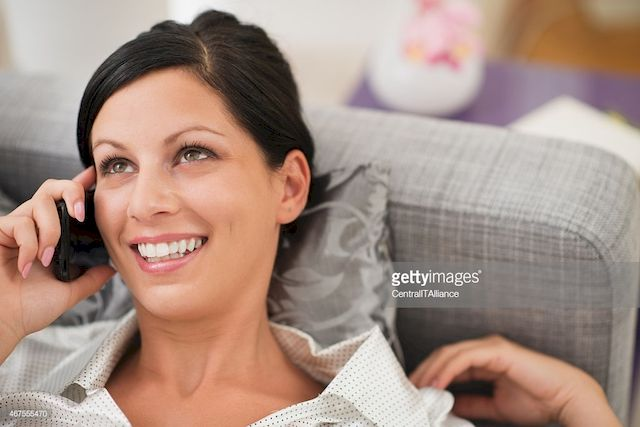phone: (50, 180, 120, 303)
talk: (5, 124, 239, 341)
